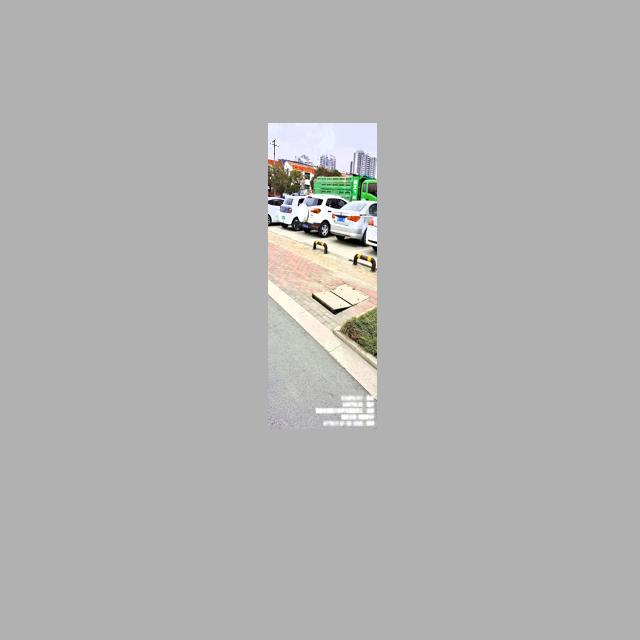uncovered: (312, 283, 371, 315)
